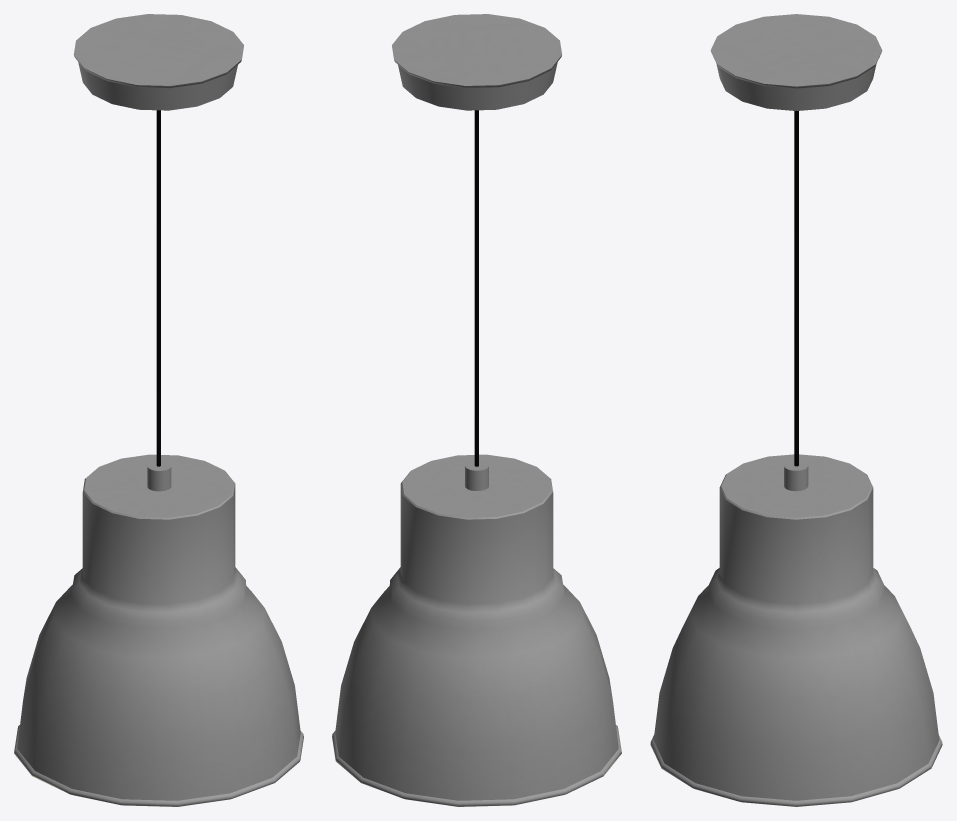
File: SpotLampV2.obj
3 renders of one model, left to right at view 1: azimuth 30°, elevation 25°; view 2: azimuth 150°, elevation 25°; view 3: azimuth 270°, elevation 25°, orthographic.
Visible parts, largest first — view 1: Object_4; view 2: Object_4; view 3: Object_4.
Boxes of the visible parts, x1,y1,x2,y2 form: Object_4: (14,14,303,806); Object_4: (332,14,621,806); Object_4: (650,14,942,806).
Size of the model in its own units: 0.4583 by 1.2 by 0.4583.
